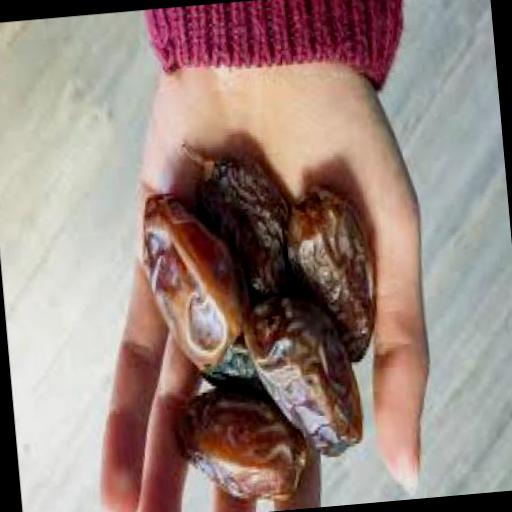biodegradable: (138, 189, 255, 382), (242, 298, 366, 466), (284, 189, 382, 378), (174, 385, 313, 512), (196, 148, 293, 312), (198, 322, 263, 399)
